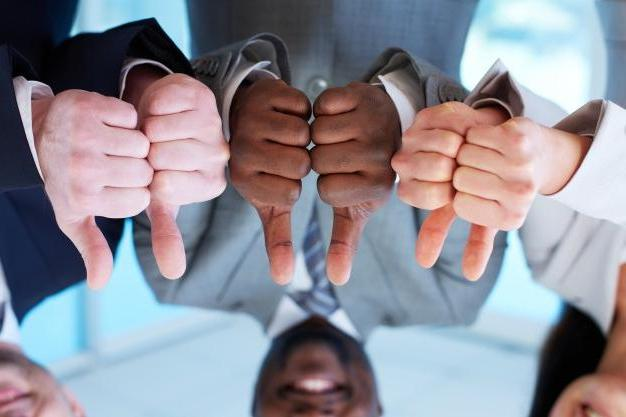thumbsdown: (60, 89, 154, 290), (230, 80, 312, 285), (148, 84, 233, 281), (312, 84, 393, 285), (454, 123, 539, 282), (391, 103, 472, 269)
